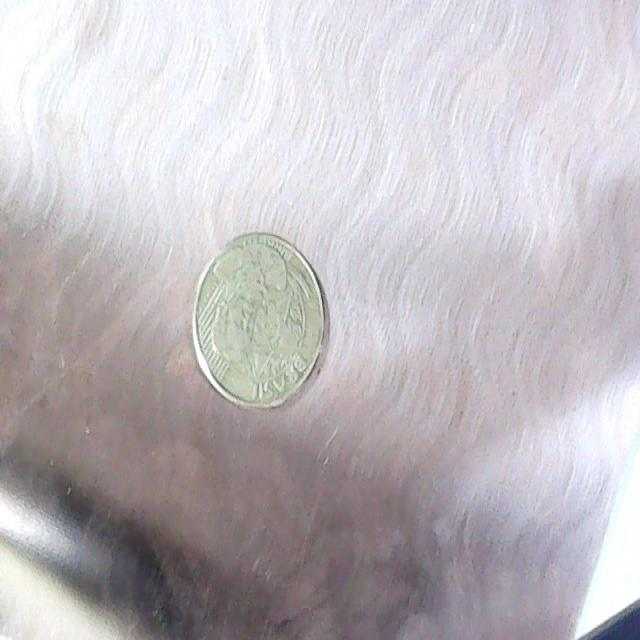25 cents: (188, 230, 330, 420)
